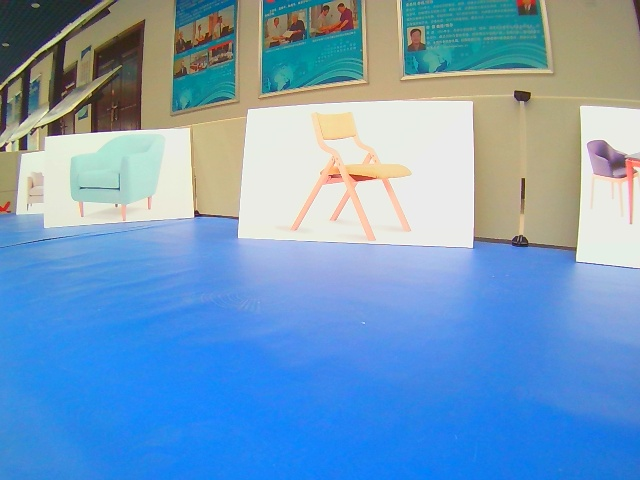sofa: (44, 128, 194, 231)
table: (237, 102, 474, 248)
